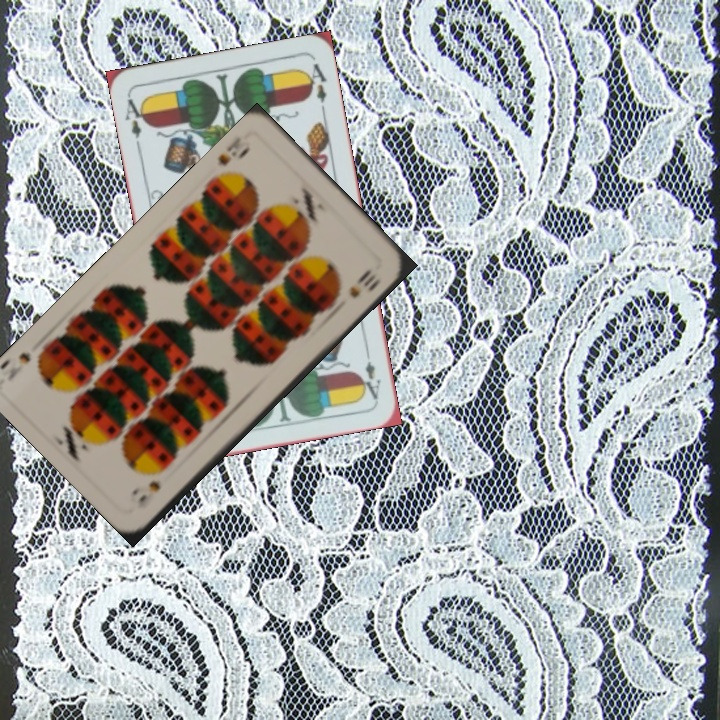EA: (121, 92, 150, 141), (357, 357, 383, 402)
S10: (213, 132, 253, 169), (133, 476, 164, 512)
